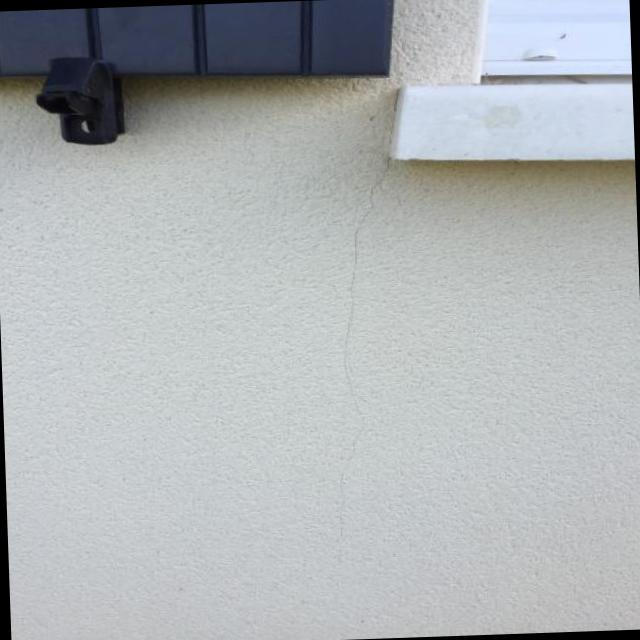crack: (332, 157, 395, 542)
